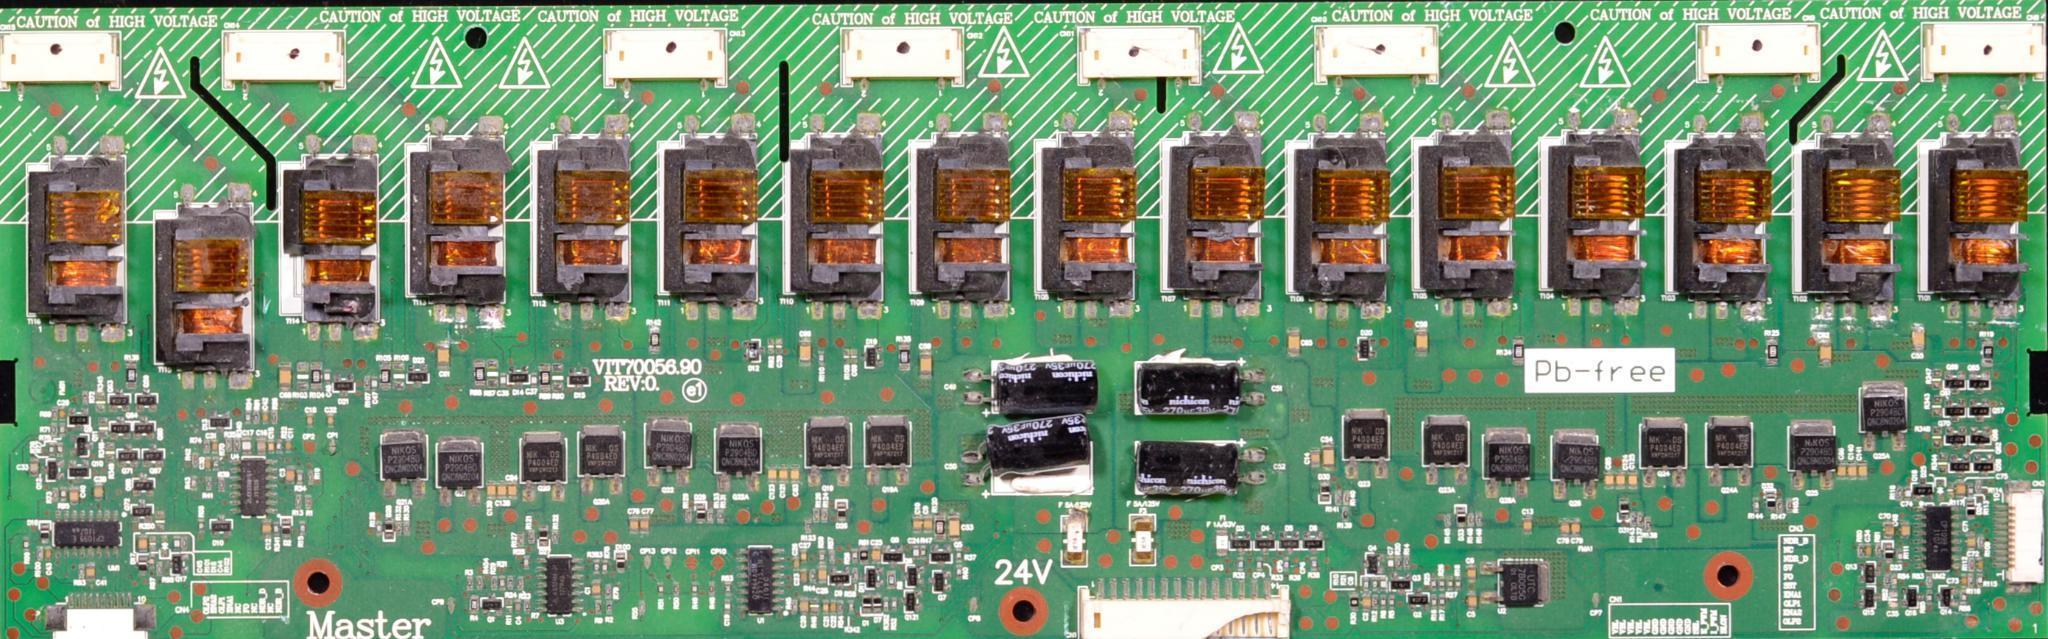Capacitor: (979, 421, 1093, 495), (1133, 443, 1259, 501), (982, 359, 1101, 418), (1137, 362, 1267, 415), (1910, 323, 1924, 356), (434, 345, 451, 371), (921, 352, 935, 382), (1415, 328, 1429, 355), (1819, 343, 1834, 368), (1287, 328, 1301, 353), (278, 364, 292, 389), (947, 518, 964, 539), (588, 578, 604, 599), (799, 337, 813, 362), (1569, 516, 1583, 537), (1308, 448, 1321, 470), (1323, 444, 1335, 468), (1952, 481, 1968, 496), (1557, 516, 1569, 538), (1881, 521, 1895, 538), (1886, 590, 1899, 609), (1614, 468, 1626, 487), (1464, 566, 1479, 581), (28, 458, 40, 474), (85, 561, 95, 581), (1627, 471, 1639, 489), (910, 516, 922, 534), (136, 533, 147, 551), (1360, 591, 1372, 609), (1964, 530, 1977, 546), (1465, 592, 1478, 608), (484, 482, 496, 499), (496, 482, 508, 499), (1847, 459, 1857, 477), (1521, 515, 1532, 533), (789, 466, 801, 482), (912, 547, 923, 563), (1605, 469, 1614, 489), (285, 466, 295, 483), (628, 515, 639, 532), (923, 517, 934, 534), (261, 517, 272, 535), (765, 465, 777, 480), (722, 597, 734, 612), (171, 536, 181, 551), (1379, 575, 1390, 590), (1837, 458, 1846, 475), (778, 467, 788, 484), (818, 565, 827, 581), (530, 374, 539, 390), (325, 412, 335, 427), (94, 483, 102, 500), (871, 545, 879, 562), (1394, 551, 1402, 569), (321, 368, 330, 383), (1900, 521, 1909, 536), (800, 598, 809, 613), (820, 600, 829, 614), (59, 407, 66, 422), (260, 411, 270, 424), (211, 438, 219, 453), (1858, 461, 1866, 477), (70, 487, 79, 503), (204, 456, 213, 469), (1958, 573, 1967, 586), (499, 372, 507, 387), (45, 545, 52, 559), (775, 339, 781, 355), (509, 480, 516, 496), (305, 413, 315, 425), (851, 349, 858, 364), (268, 440, 275, 454), (800, 549, 807, 562), (1403, 554, 1409, 570), (830, 602, 837, 614), (515, 601, 521, 614), (285, 441, 293, 451), (371, 377, 378, 389), (1865, 543, 1871, 558), (640, 517, 647, 528), (1977, 559, 1983, 572), (793, 556, 800, 565), (801, 571, 805, 582)
IC: (739, 543, 783, 618), (54, 511, 120, 558), (1914, 504, 1961, 571), (537, 554, 583, 617), (1497, 556, 1549, 607), (231, 456, 275, 517)
Resistor: (1763, 337, 1782, 369), (1979, 339, 1995, 369), (486, 361, 501, 389), (380, 361, 393, 390), (537, 364, 551, 391), (552, 364, 565, 393), (311, 363, 324, 391), (297, 364, 309, 392), (649, 327, 662, 352), (126, 364, 138, 389), (1750, 495, 1763, 520), (474, 360, 486, 385), (394, 361, 405, 390), (897, 343, 909, 364), (1930, 394, 1942, 417), (936, 516, 947, 541), (1931, 428, 1943, 448), (1308, 552, 1319, 572), (105, 441, 115, 462), (1937, 454, 1948, 476), (1334, 487, 1345, 507), (1628, 510, 1639, 529), (1347, 590, 1360, 608), (1975, 531, 1986, 549), (1894, 543, 1904, 563), (95, 390, 105, 412), (1932, 370, 1943, 387), (99, 418, 110, 436), (1235, 555, 1249, 570), (1253, 555, 1264, 571), (1358, 575, 1370, 591), (1437, 594, 1446, 614), (1854, 542, 1864, 559), (1636, 508, 1644, 530), (860, 546, 869, 564), (470, 596, 479, 614), (841, 348, 852, 363), (1340, 508, 1350, 524), (403, 518, 412, 538), (1454, 573, 1461, 593), (1372, 591, 1379, 611), (1428, 594, 1438, 610), (766, 339, 774, 356), (1342, 489, 1350, 506), (1466, 511, 1474, 528), (1642, 515, 1651, 532), (1386, 551, 1395, 569), (1309, 556, 1318, 572), (808, 569, 817, 586), (887, 569, 896, 586), (506, 574, 514, 591), (724, 580, 733, 597), (305, 491, 313, 511), (197, 516, 205, 536), (1369, 576, 1380, 589), (189, 476, 198, 491), (293, 493, 301, 511), (850, 546, 858, 564), (818, 549, 827, 564), (1281, 556, 1290, 571), (954, 566, 963, 581), (476, 575, 484, 590), (1430, 577, 1439, 593), (691, 581, 700, 597), (1959, 587, 1967, 605), (595, 600, 605, 616), (639, 601, 648, 617), (307, 468, 313, 489), (1475, 510, 1481, 530), (1446, 573, 1452, 593), (1926, 589, 1933, 610), (225, 435, 233, 452), (518, 531, 526, 547), (23, 536, 32, 553), (1388, 595, 1396, 611), (505, 598, 513, 615), (524, 598, 531, 615), (204, 476, 213, 490), (217, 478, 226, 493), (1967, 479, 1976, 494), (717, 507, 726, 521), (395, 518, 401, 537), (883, 596, 889, 615), (232, 437, 240, 452), (59, 486, 67, 502), (1872, 541, 1880, 557), (77, 562, 85, 578), (851, 566, 859, 582), (515, 575, 523, 590), (674, 580, 682, 596), (816, 352, 826, 365), (528, 530, 537, 543), (829, 548, 836, 566), (500, 573, 507, 591), (811, 601, 820, 614), (1440, 572, 1445, 594), (49, 422, 57, 436), (59, 422, 66, 437), (203, 439, 210, 453), (298, 470, 305, 485), (1895, 486, 1903, 501), (821, 507, 829, 521), (1967, 574, 1975, 588), (707, 579, 715, 593), (891, 598, 898, 613), (52, 487, 59, 504), (1775, 496, 1782, 514), (921, 544, 927, 560), (657, 580, 664, 597), (591, 560, 599, 573), (81, 391, 89, 404), (251, 412, 259, 425), (275, 437, 282, 452), (1973, 479, 1981, 493), (812, 507, 819, 523), (1445, 511, 1450, 530), (273, 520, 280, 536), (376, 520, 383, 536), (956, 549, 962, 564), (1891, 572, 1899, 586), (605, 601, 613, 614), (49, 442, 56, 456), (299, 520, 306, 535), (466, 575, 473, 589), (491, 576, 498, 590), (803, 521, 811, 533), (603, 585, 611, 597), (1786, 497, 1791, 513), (181, 535, 187, 551), (849, 598, 854, 615), (52, 407, 59, 420), (551, 530, 558, 543), (36, 546, 43, 559), (1967, 558, 1974, 571), (601, 559, 607, 572), (156, 562, 162, 575), (1977, 574, 1984, 587), (57, 442, 63, 458), (193, 452, 199, 468), (1380, 592, 1385, 613), (686, 508, 692, 520), (245, 412, 251, 426), (838, 602, 846, 611), (364, 377, 370, 389), (706, 508, 712, 520)
Transistor: (713, 422, 764, 475), (1787, 420, 1836, 472), (1422, 415, 1471, 469), (577, 424, 625, 477), (1482, 428, 1531, 482), (1859, 381, 1908, 433), (1551, 428, 1600, 479), (435, 436, 484, 488), (1704, 416, 1752, 469), (1342, 410, 1390, 461), (1639, 418, 1688, 469), (863, 416, 911, 468), (805, 417, 852, 469), (645, 417, 692, 468), (380, 429, 427, 480), (520, 432, 567, 484), (901, 588, 921, 615), (933, 567, 950, 598), (925, 547, 955, 564), (1388, 574, 1416, 592), (1942, 399, 1967, 418), (831, 569, 855, 588), (129, 502, 159, 518), (1940, 584, 1957, 612), (1965, 403, 1993, 418), (1966, 371, 1992, 388), (1910, 481, 1936, 498), (1858, 583, 1876, 607), (1950, 459, 1972, 477), (1970, 428, 1993, 445), (1971, 458, 1995, 475), (1364, 552, 1381, 575), (902, 564, 920, 588), (1904, 585, 1921, 609), (132, 476, 154, 492), (864, 565, 879, 590), (1860, 560, 1876, 584), (1407, 589, 1430, 605), (76, 432, 90, 457), (135, 391, 157, 406), (142, 448, 164, 464), (1941, 432, 1967, 446), (1945, 373, 1965, 390), (135, 420, 156, 435), (881, 547, 907, 561), (481, 597, 503, 611), (112, 421, 133, 435), (172, 556, 185, 577), (118, 448, 139, 461), (70, 414, 93, 426), (68, 467, 90, 478), (111, 396, 131, 408), (47, 460, 58, 479)
